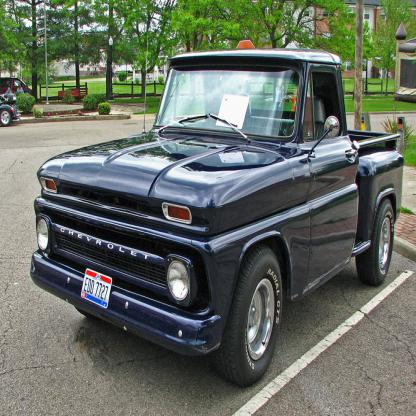Car: (1, 78, 32, 95)
Truck: (30, 48, 405, 387)
